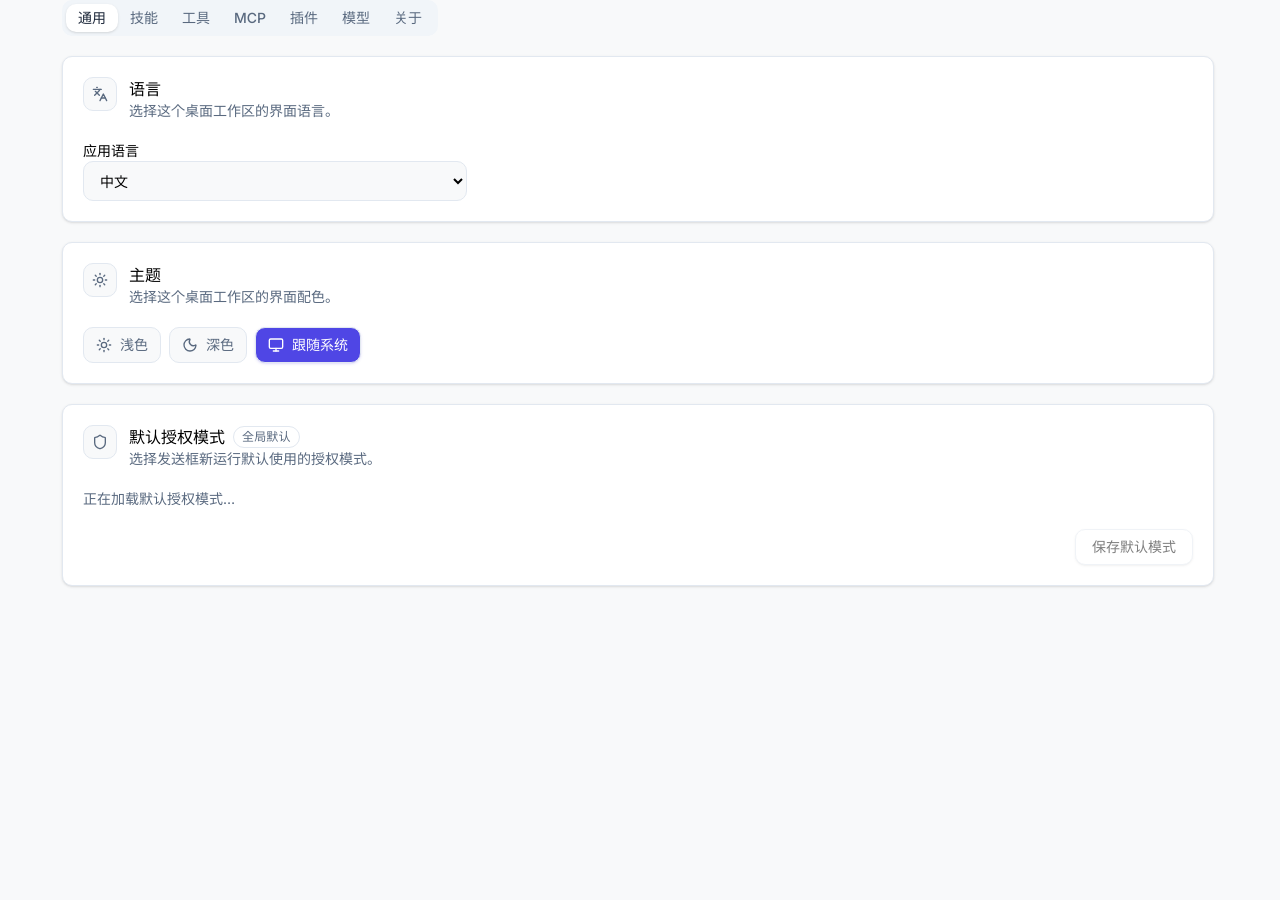
Test: SettingsPage › switches the app language from local settings
expect the heading "语言" is shown: met, box [129, 79, 161, 99]
Select "英文" in the dropdown labelled "应用语言": [275, 181] box [83, 161, 467, 201]
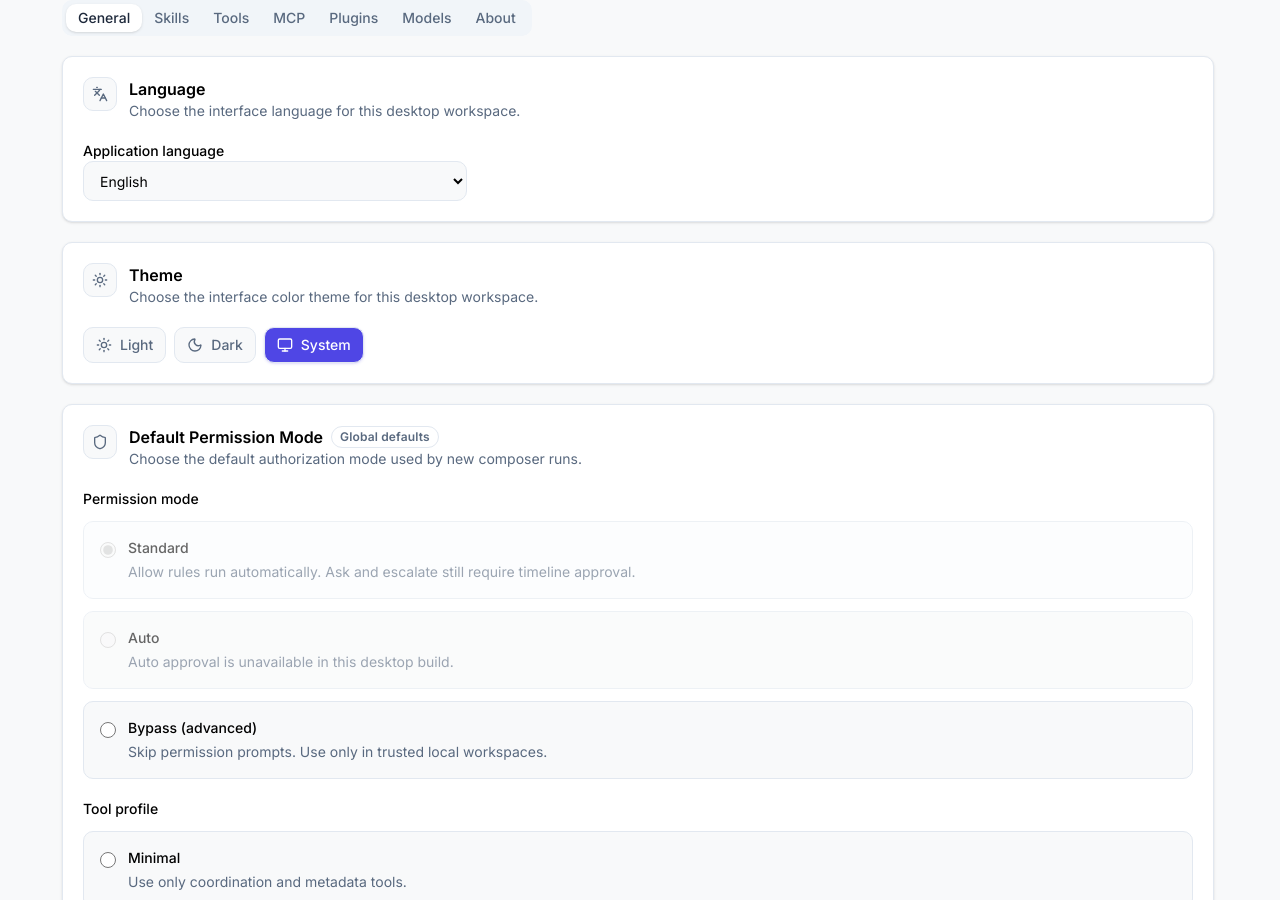
expect the heading "Language" is shown: met, box [129, 79, 206, 99]
